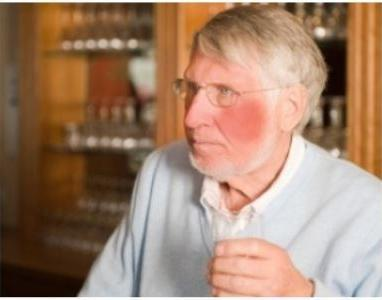Drunk: (174, 55, 266, 167)
